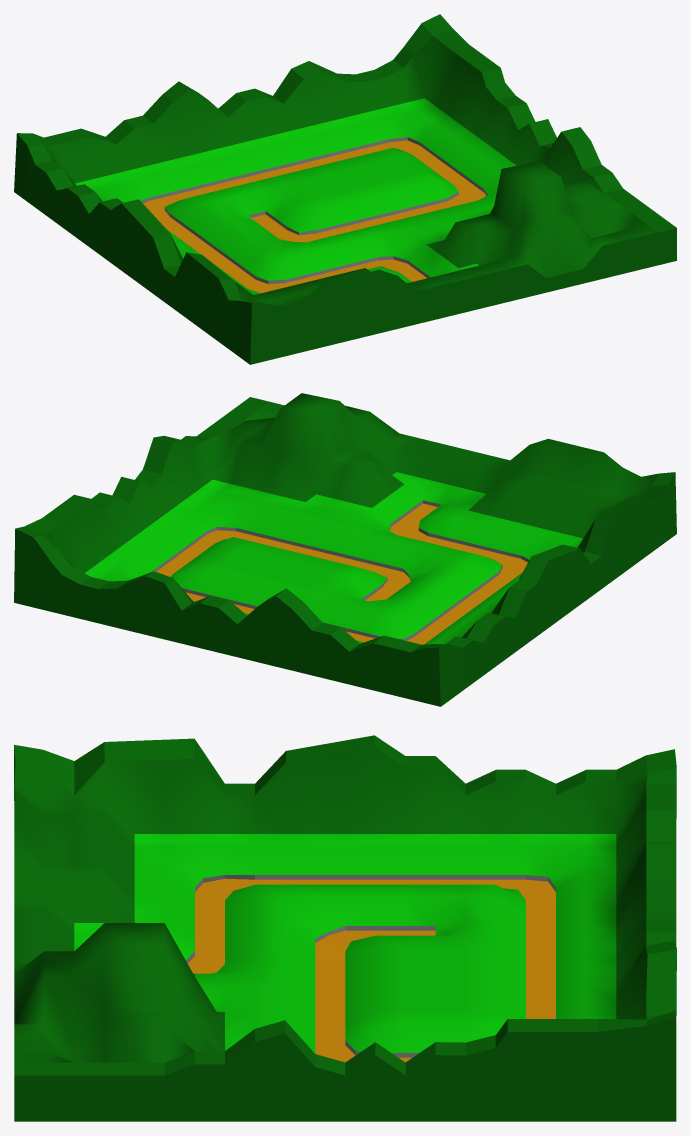
File: TerrainExClean.fbx
The picture shows the model from 3 angles, top to bottom: view 1: azimuth 30°, elevation 25°; view 2: azimuth 150°, elevation 25°; view 3: azimuth 270°, elevation 25°; orthographic projection. The views are drawn at different scales.
Parts seen in each view (by area): view 1: pPlane1; view 2: pPlane1; view 3: pPlane1.
Part boxes in pixels (bbox=[...]): pPlane1: bbox=[14, 14, 676, 364]; pPlane1: bbox=[14, 393, 676, 706]; pPlane1: bbox=[14, 735, 676, 1121].
Bounding box in the file's own units: 21.92 × 4.02 × 20.98.
